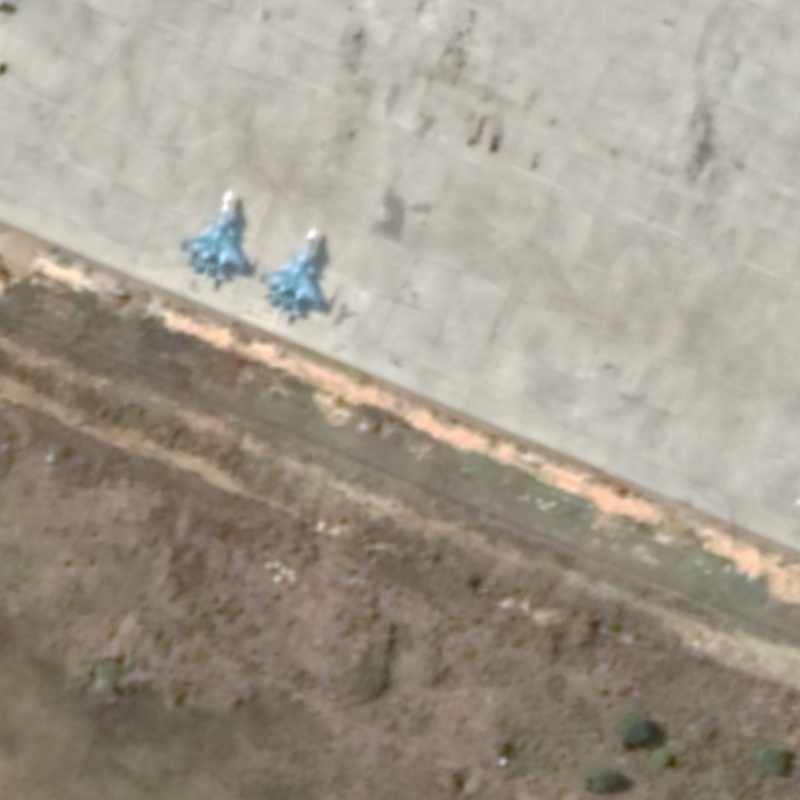A19: (177, 185, 253, 286), (261, 223, 331, 316)
